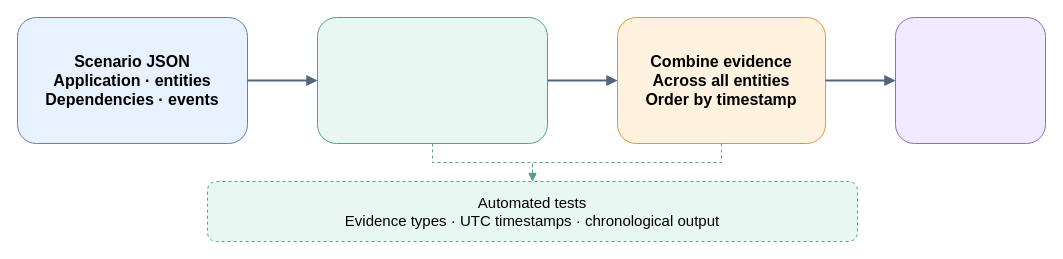
This 1063x259 diagram has some shape labels left out. Here are the shapes that lost their labels. From the top down, the centre of each, then its label:
At point (432, 80): "Validate model Entity and dependency IDs Event references · UTC time".
At point (970, 80): "Print Entity-labeled timeline".
